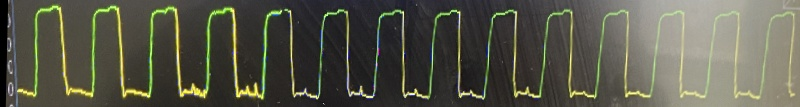hydrop_pressure: (1, 0, 785, 107)
